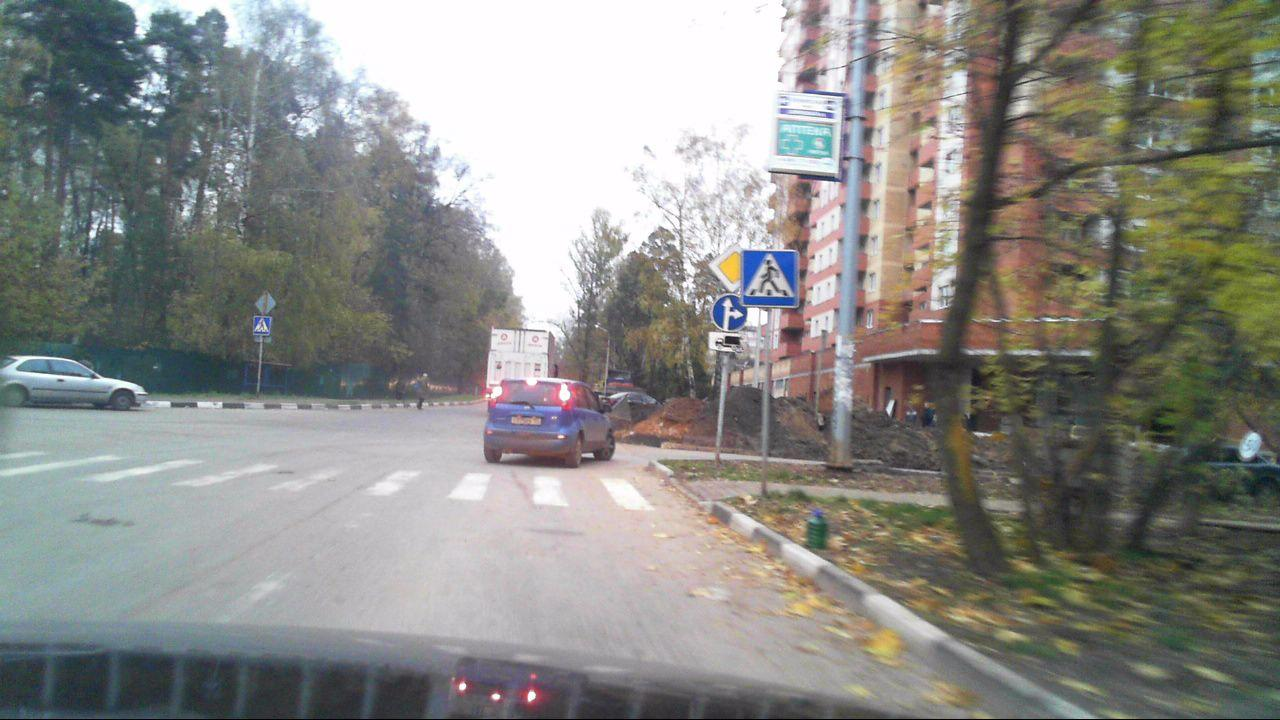obstructed_road_sign: (708, 243, 743, 293)
road_sign: (742, 250, 798, 305), (710, 293, 747, 332), (708, 332, 746, 353), (253, 316, 271, 335)
